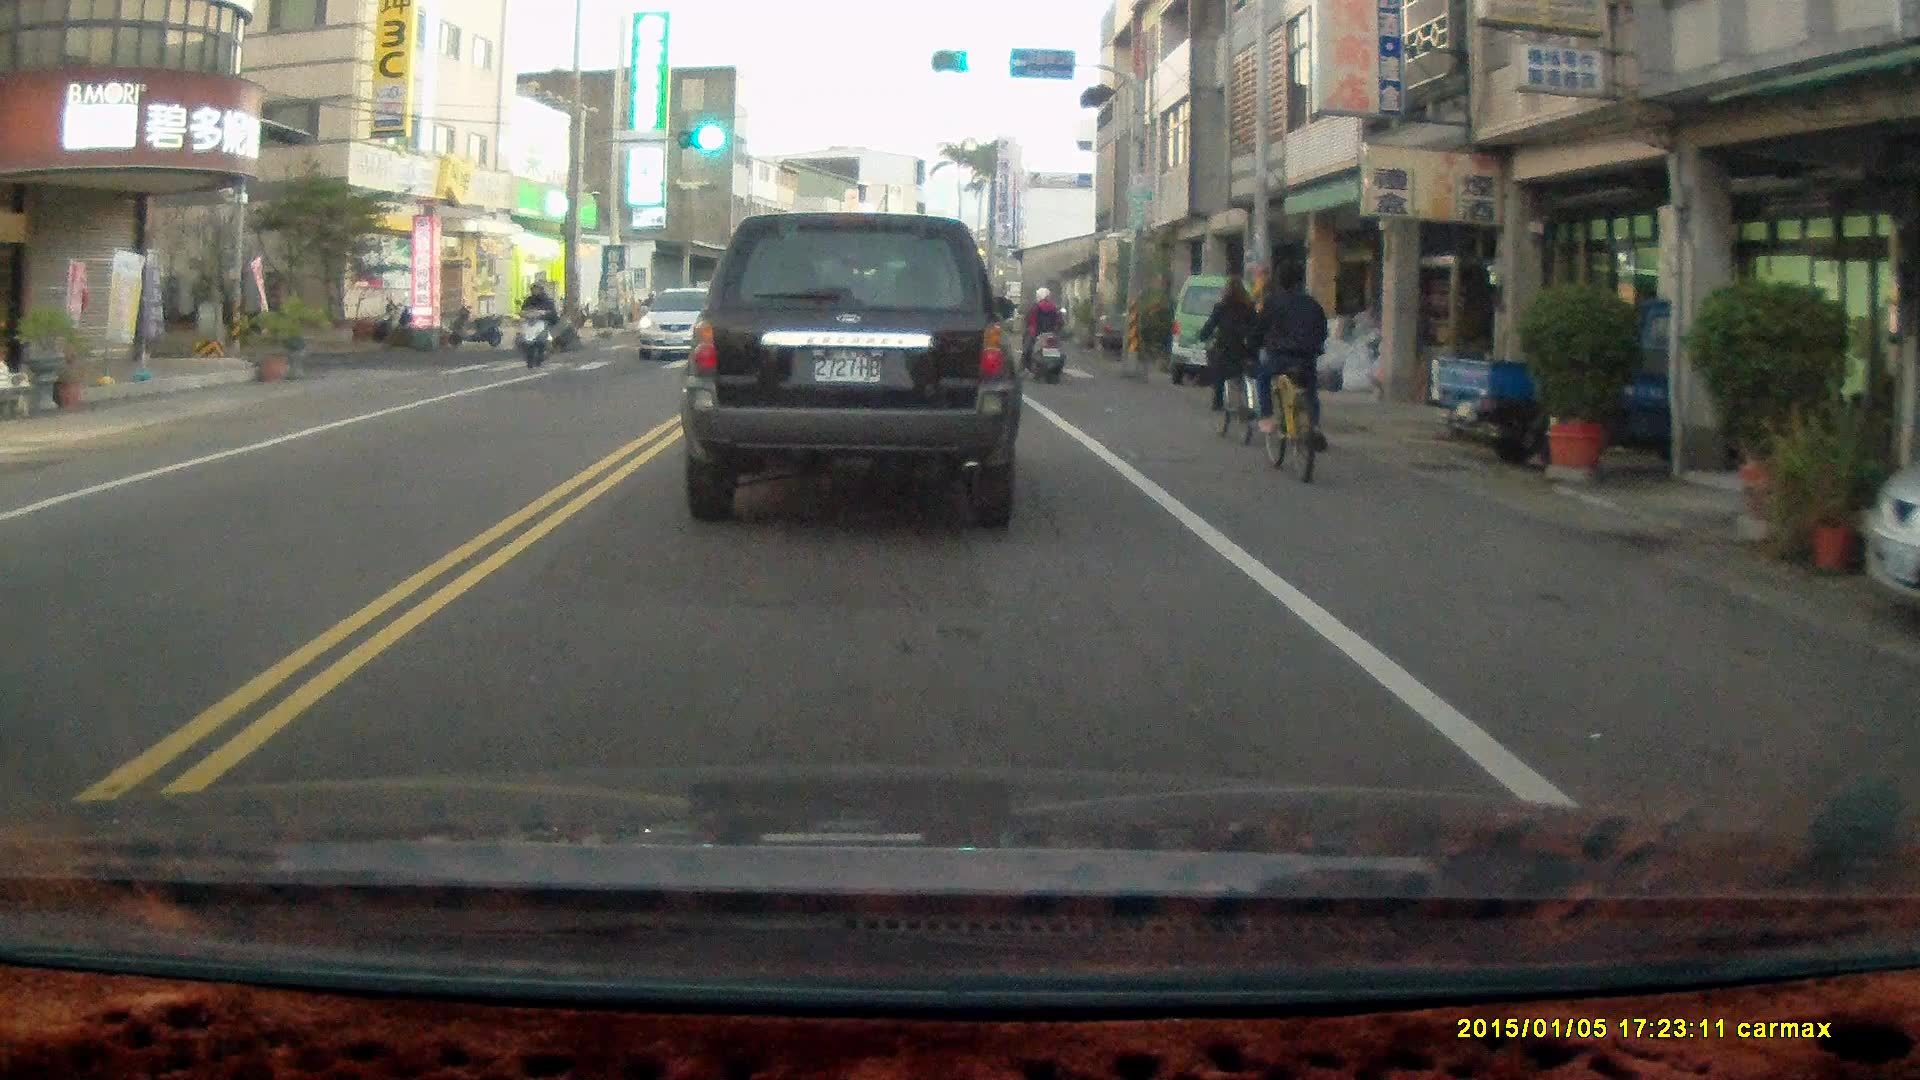rider: (1238, 257, 1327, 483), (1198, 276, 1260, 440), (1017, 282, 1068, 383), (514, 276, 556, 369), (514, 286, 571, 350)
vehicle: (679, 209, 1025, 524), (1172, 277, 1276, 381), (1861, 459, 1920, 616), (641, 286, 731, 361)
